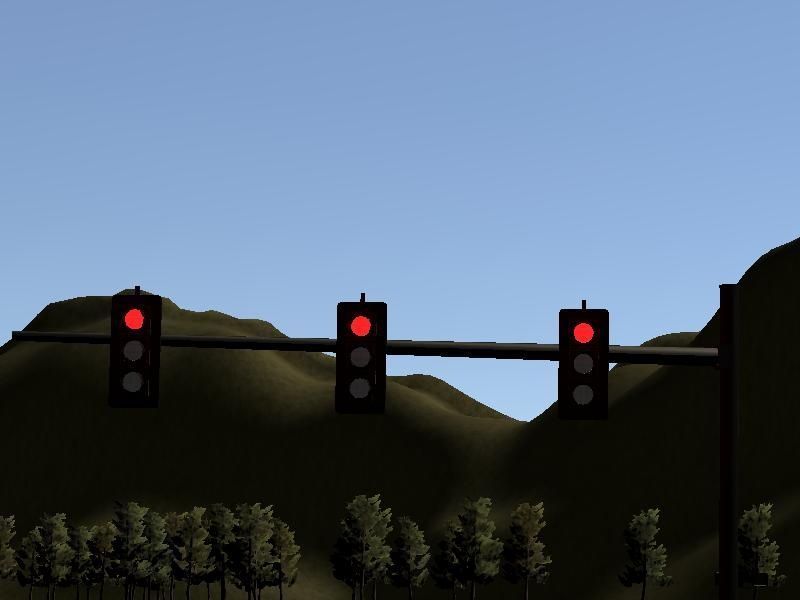RED: (108, 293, 161, 408), (336, 300, 387, 411), (559, 310, 610, 421)
